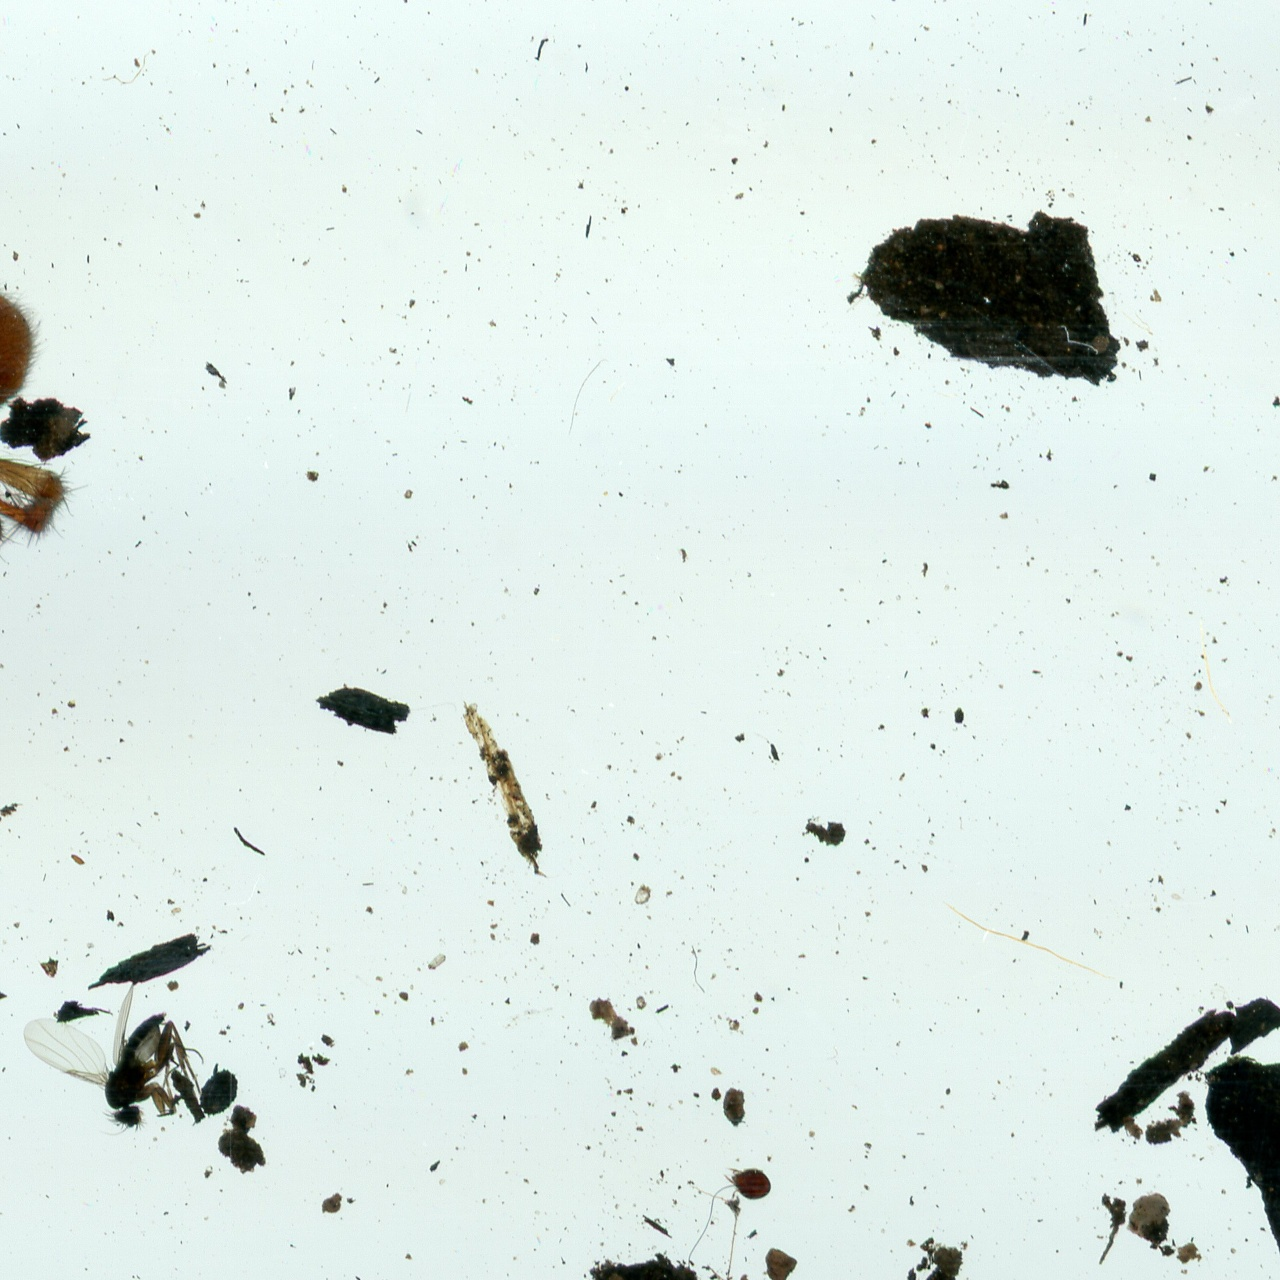arthropod: (0, 156, 77, 645), (15, 980, 206, 1143), (715, 1163, 774, 1204)
